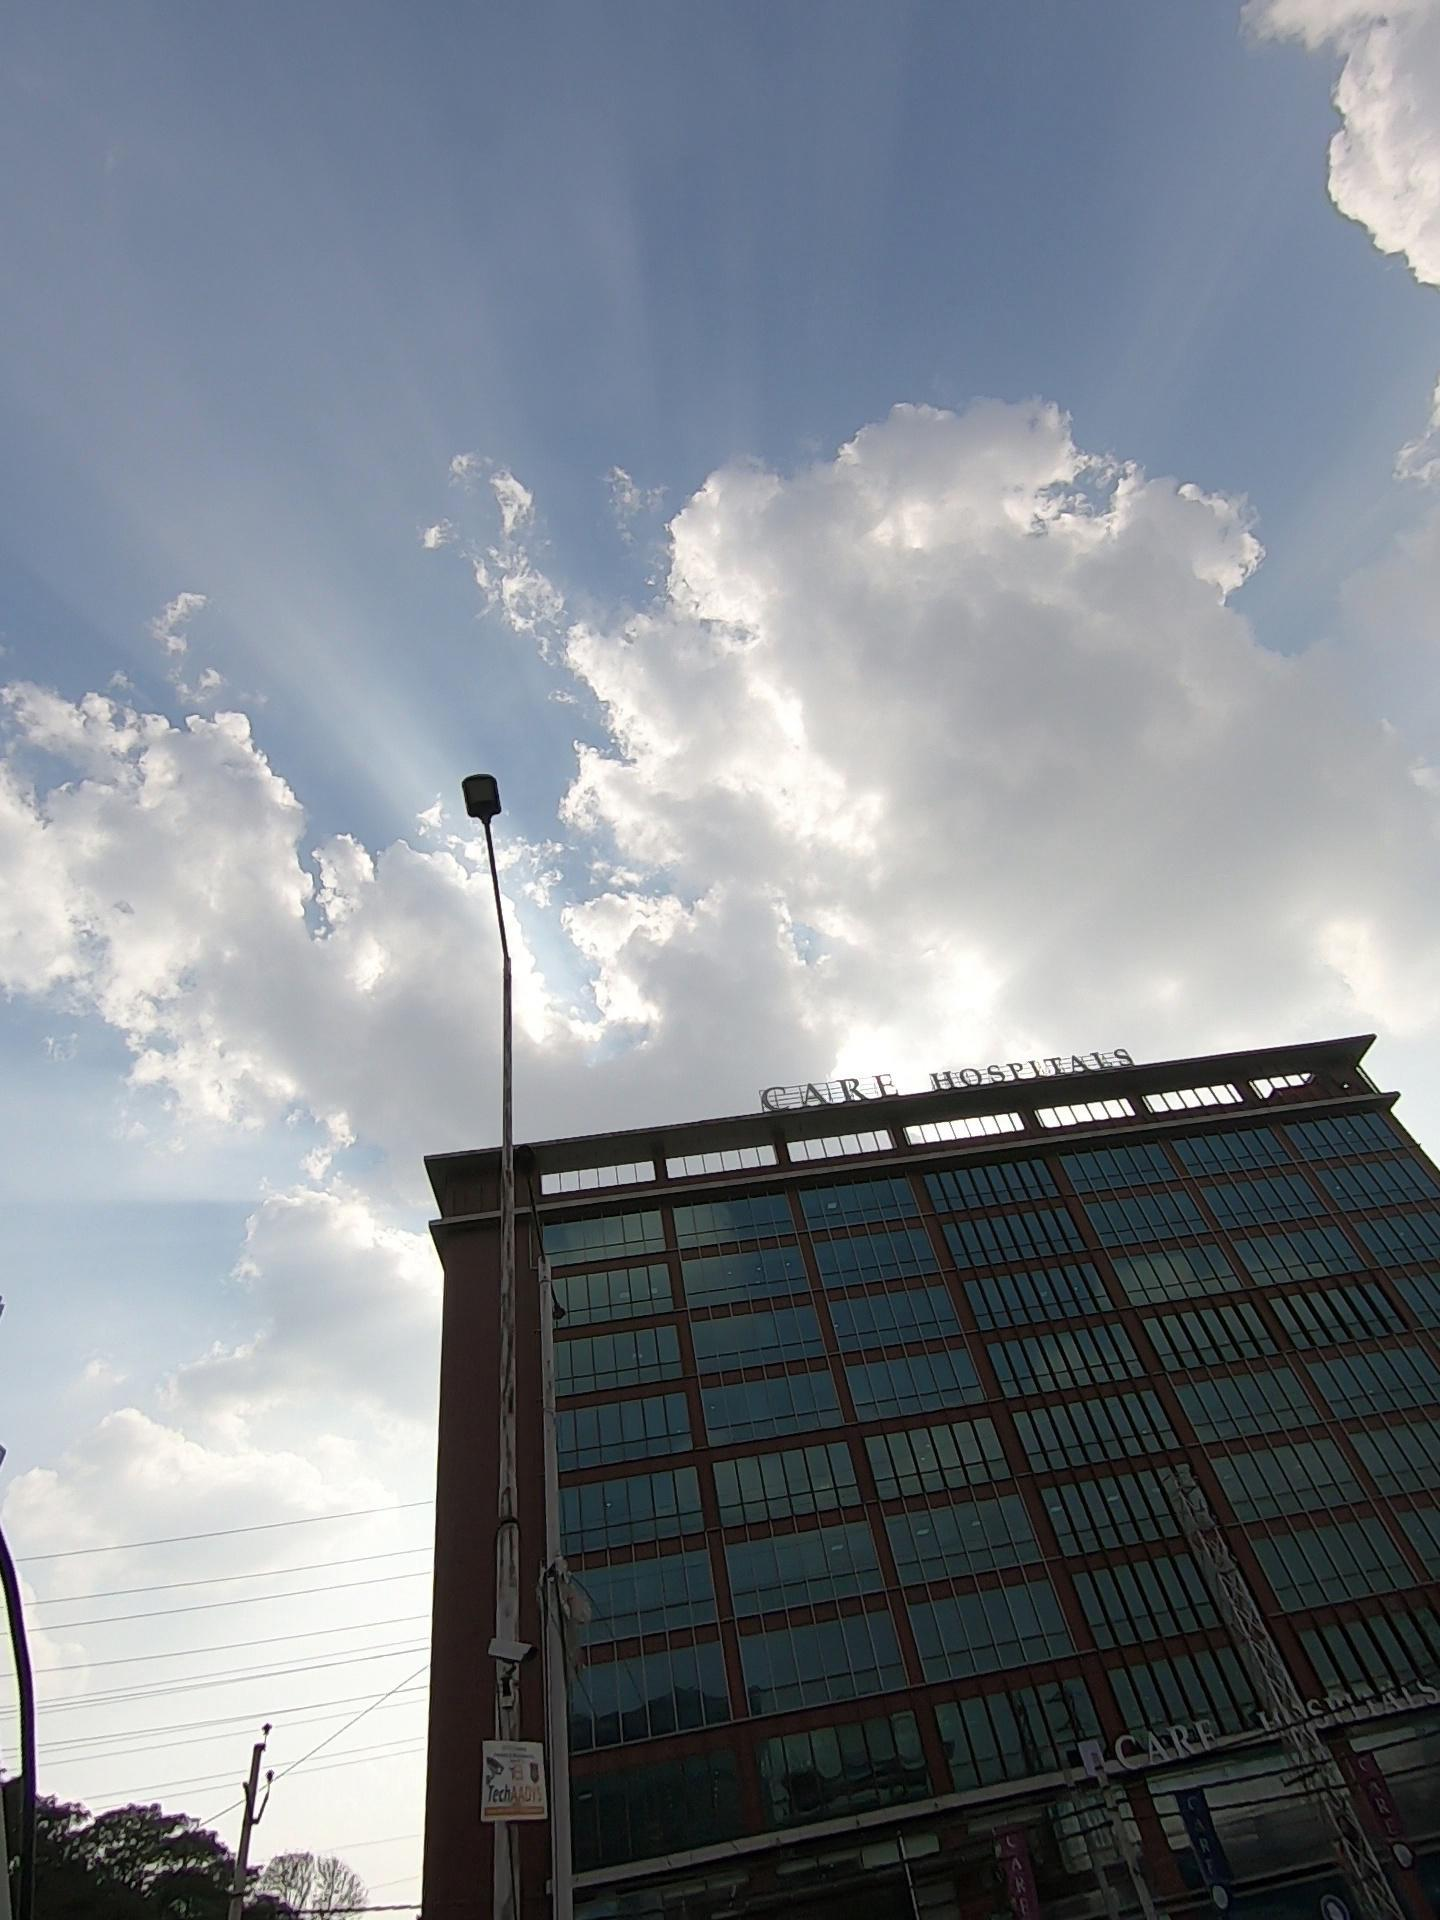off: (380, 652, 620, 1092)
